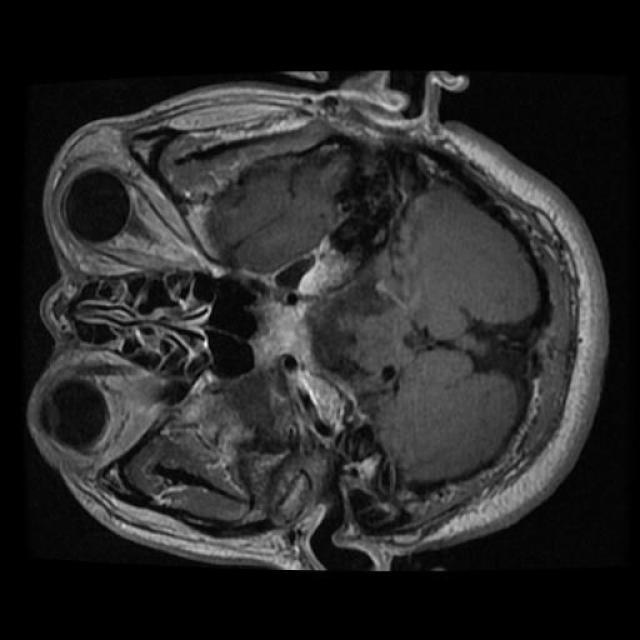Pituitary: (249, 229, 365, 434)
